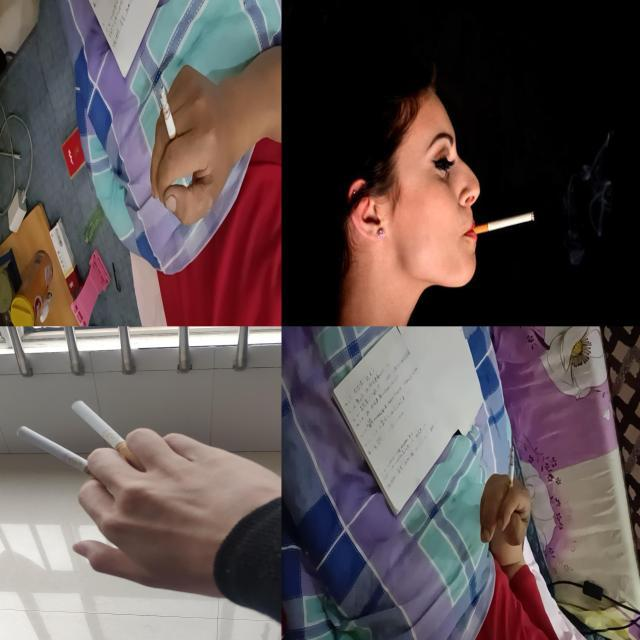smoking: (17, 426, 112, 488), (71, 400, 146, 472), (466, 210, 536, 238), (160, 85, 179, 151), (507, 445, 515, 500)
